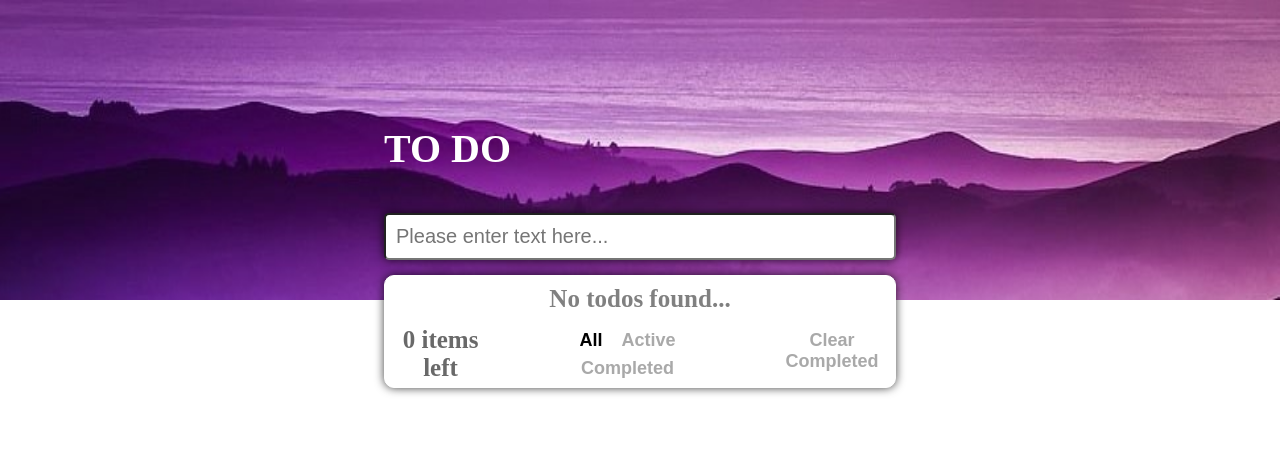
Scenario: to-do app e2e › with a checked task › can filter for completed tasks
Step 1. Type "Todo item completed" into the field with test id "input-new-todo" → (640, 237), box [384,213,896,260]
Then press Enter
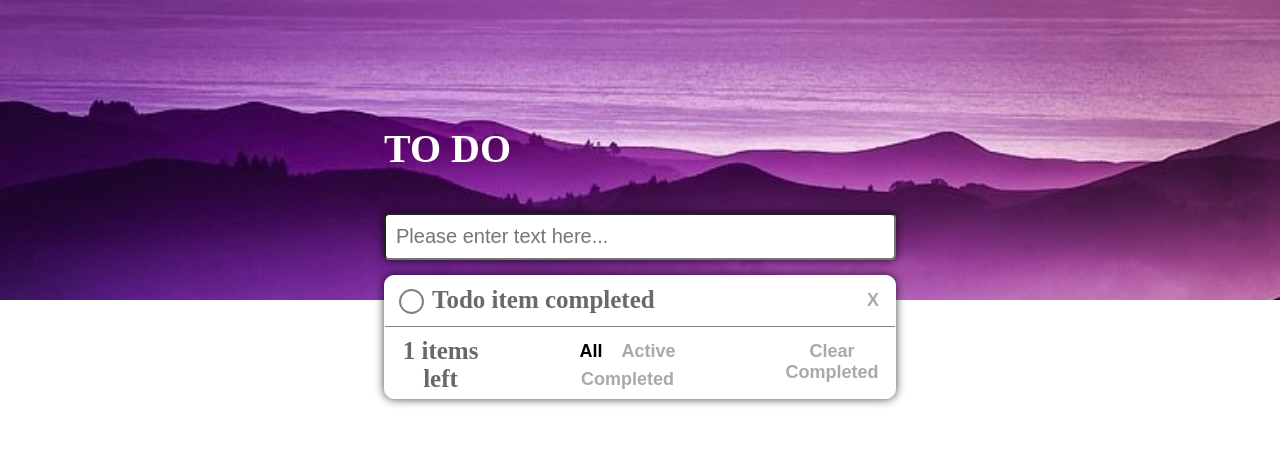
Step 2. Type "Todo item active" into the field with test id "input-new-todo" → (640, 237), box [384,213,896,260]
Then press Enter
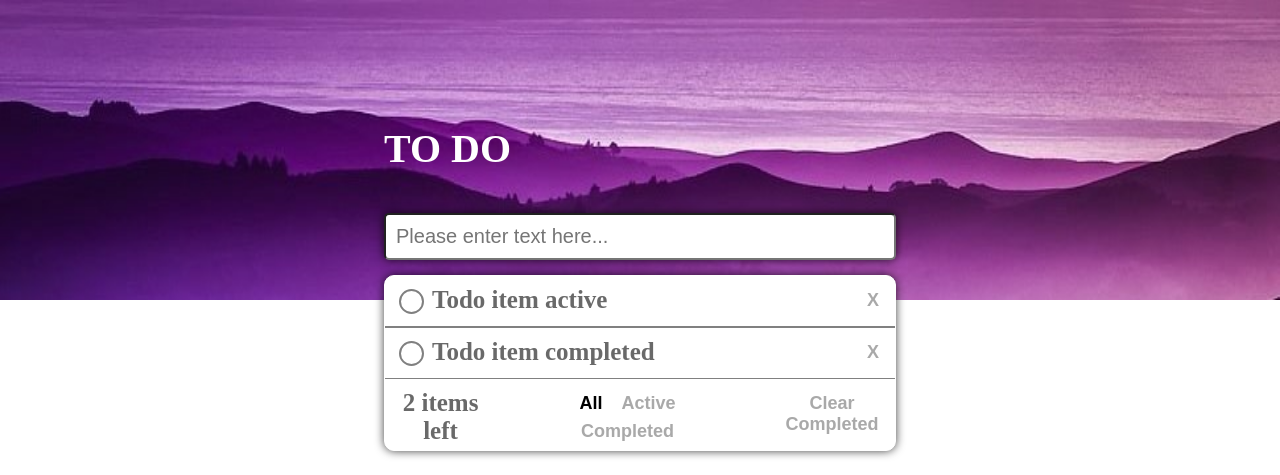
Step 3. Check the 2nd checkbox → (412, 354), box [399,341,424,366]
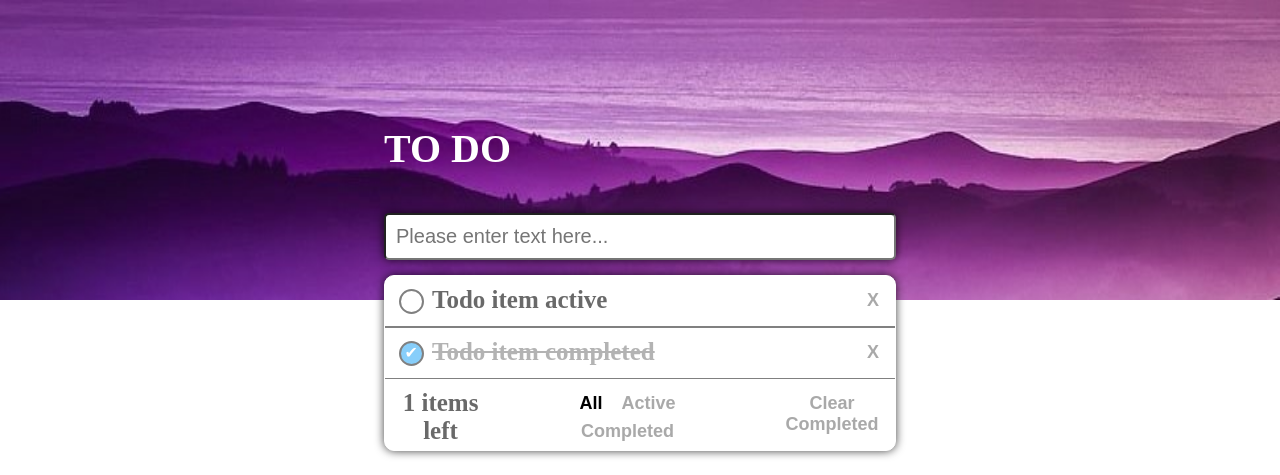
Step 4. Click the button "Completed" → (628, 433), box [575,420,680,445]
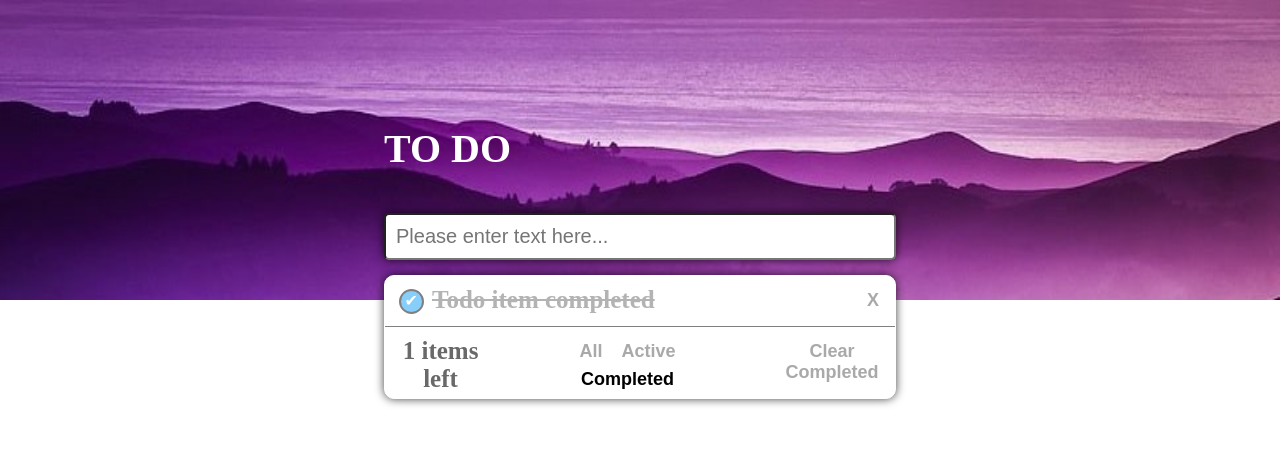
Expected: the text "Todo item completed" is shown, [432,286,655,314]
Expected: the button "Todo item active" is gone
